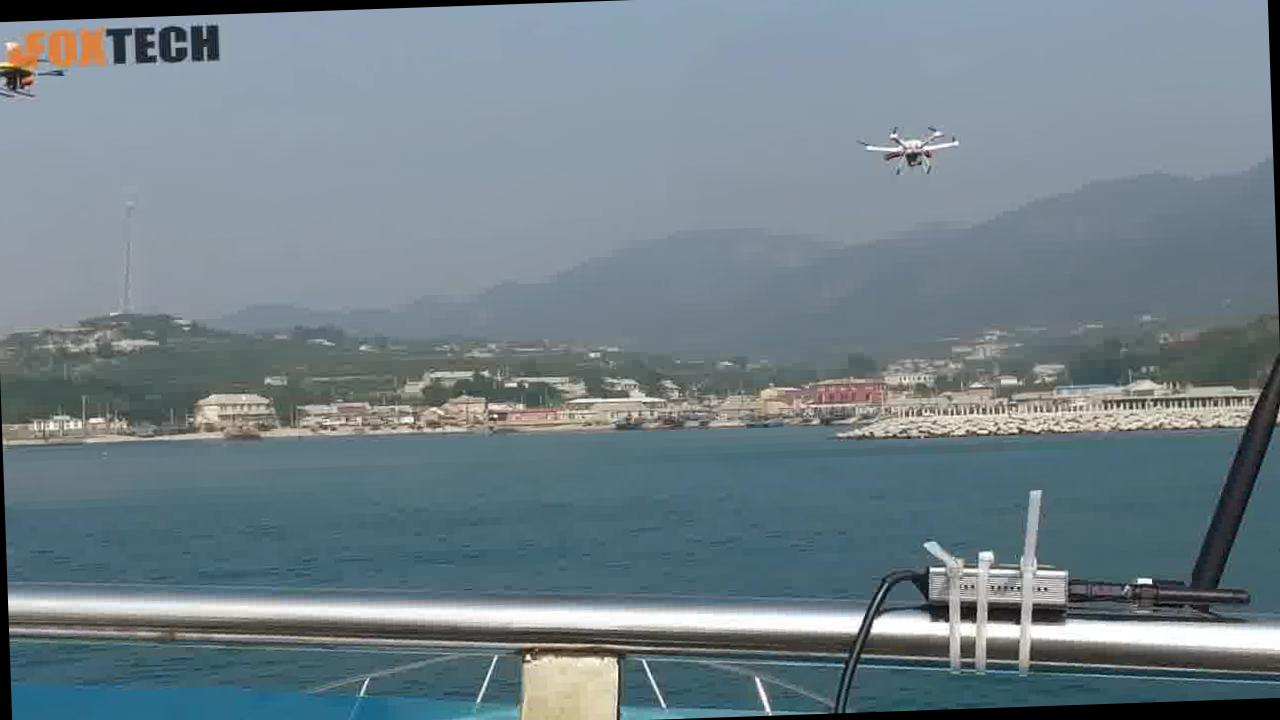drone: (860, 122, 971, 185)
